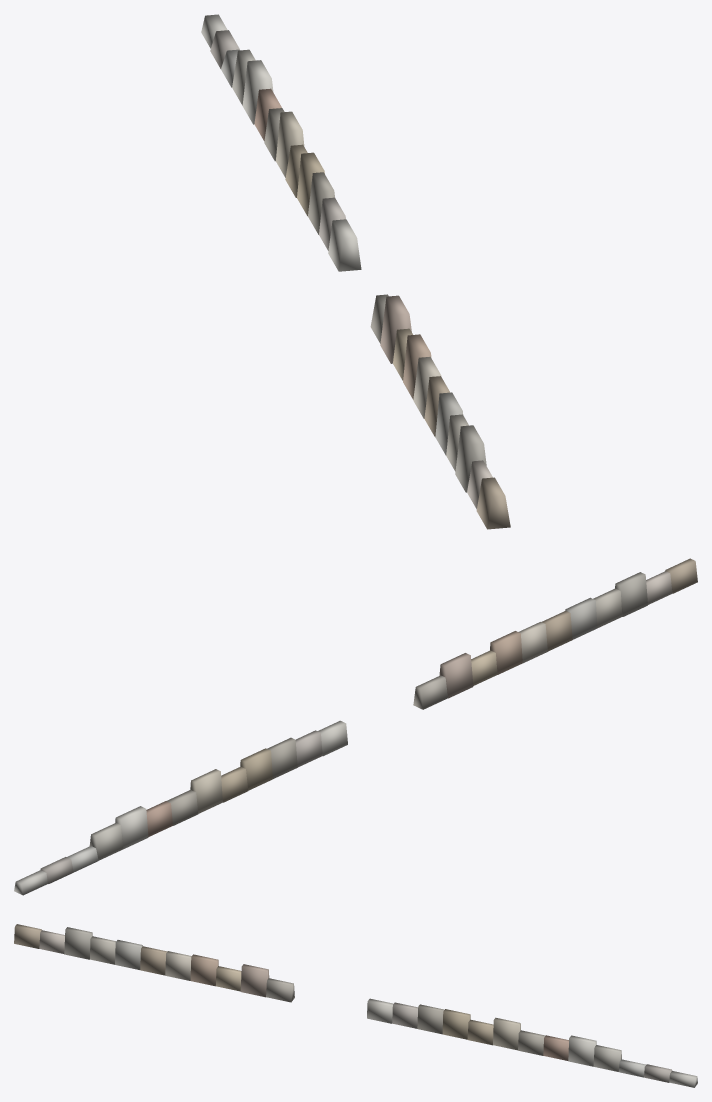
The model's file is farm_12_7_collision.glb.
3 views of the same model, one above another, from view 1: azimuth 30°, elevation 25°; view 2: azimuth 150°, elevation 25°; view 3: azimuth 270°, elevation 25° (orthographic). The views are drawn at different scales.
Parts seen in each view (by area): view 1: geometry_0; view 2: geometry_0; view 3: geometry_0.
Part boxes in pixels (x1,y1,x2,y2): geometry_0: (201, 14, 510, 529); geometry_0: (14, 558, 697, 895); geometry_0: (14, 924, 697, 1087).
Size of the model in its own units: 13.9 by 4.42 by 39.95.
